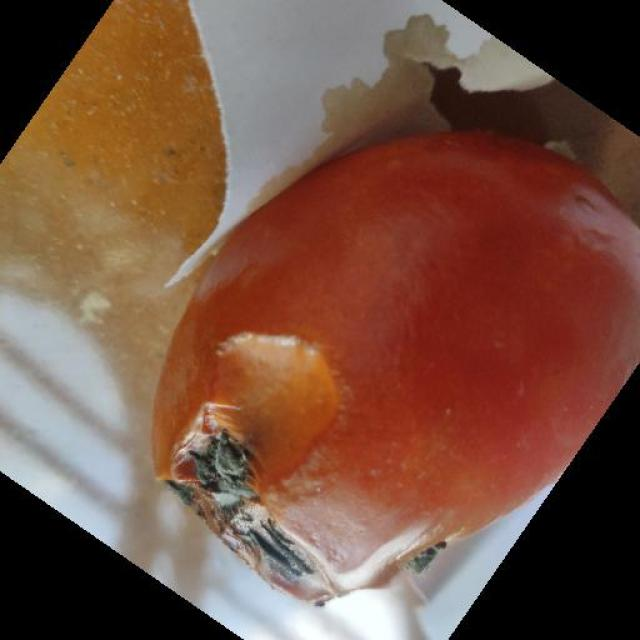Stale_tomato: (133, 146, 640, 604)
